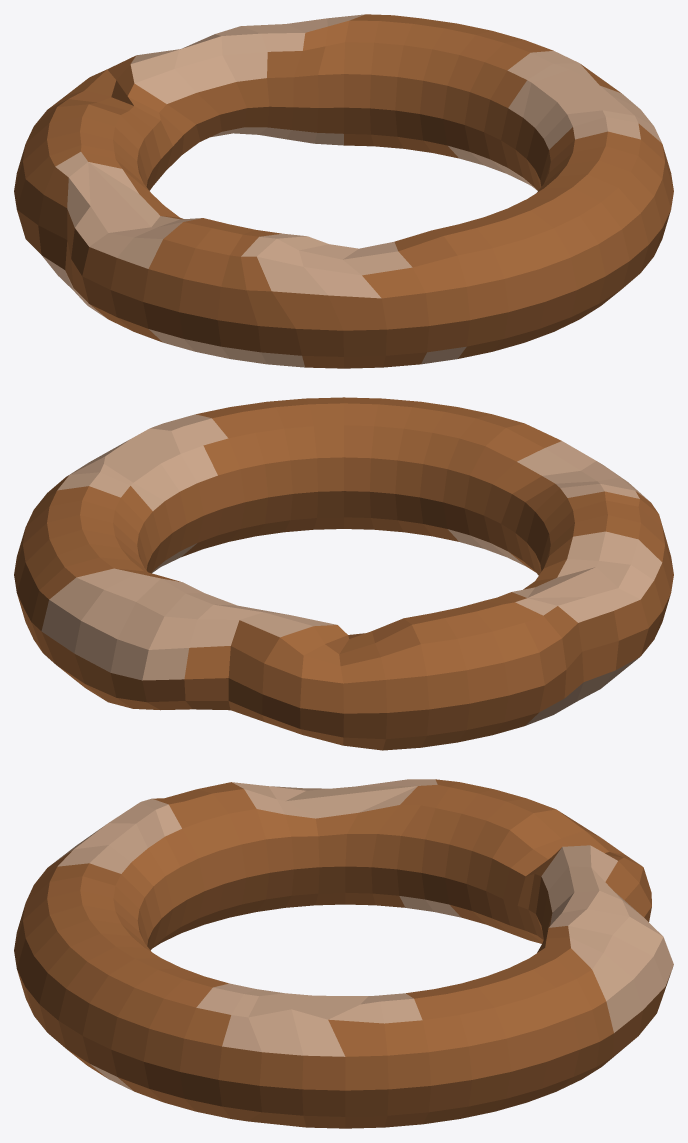
File: bagel.fbx
3 views of the same model, one above another, from view 1: azimuth 30°, elevation 25°; view 2: azimuth 150°, elevation 25°; view 3: azimuth 270°, elevation 25° (orthographic).
Visible parts, largest first — view 1: Torus; view 2: Torus; view 3: Torus.
Part boxes in pixels (x1,y1,x2,y2): Torus: (14,14,673,368); Torus: (14,397,673,750); Torus: (14,779,673,1128).
Size of the model in its own units: 4.5 by 0.9234 by 4.5.
